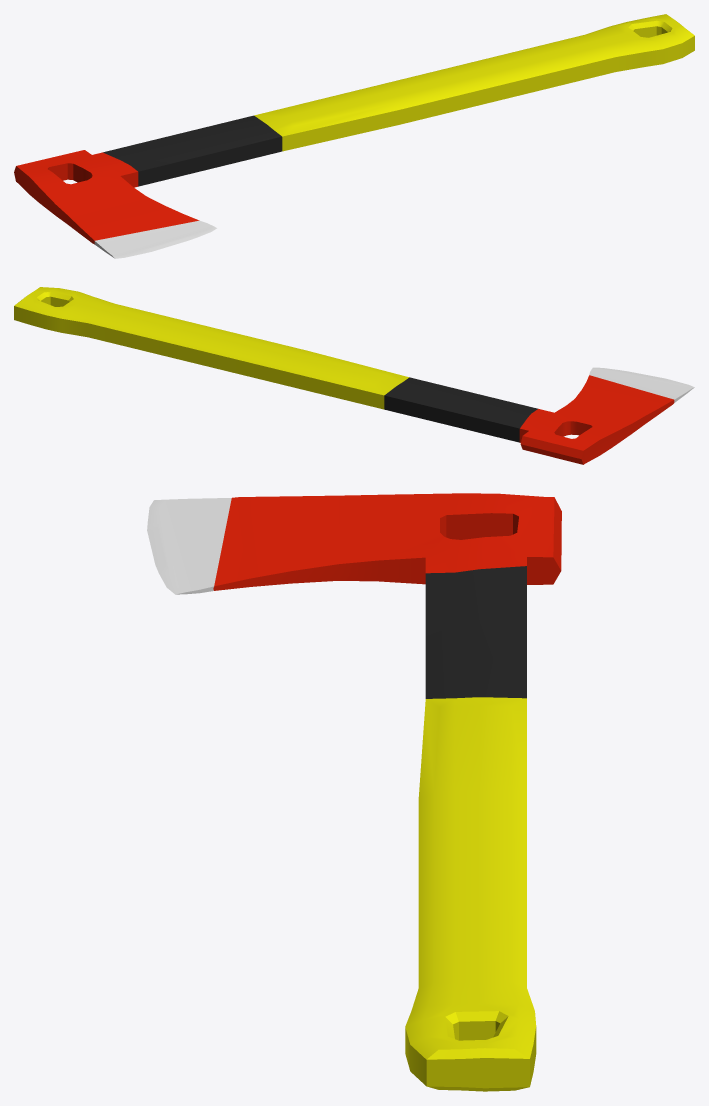
File: axeExport-10.fbx
3 renders of one model, top to bottom at view 1: azimuth 30°, elevation 25°; view 2: azimuth 150°, elevation 25°; view 3: azimuth 270°, elevation 25°, orthographic. The views are drawn at different scales.
Parts seen in each view (by area): view 1: Plane.012; view 2: Plane.012; view 3: Plane.012.
Part boxes in pixels (bbox=[...]): Plane.012: bbox=[14, 14, 694, 258]; Plane.012: bbox=[14, 287, 694, 464]; Plane.012: bbox=[147, 493, 561, 1091].
Size of the model in its own units: 1605 by 56.74 by 491.
